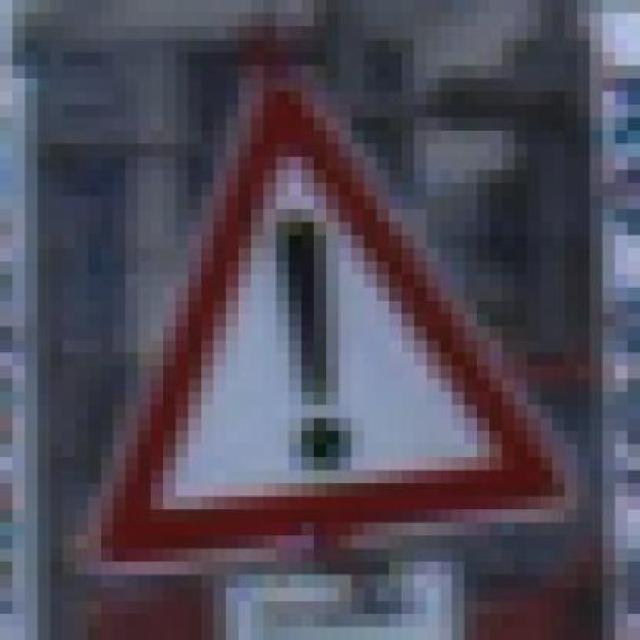Attention Please-: (76, 52, 564, 588)
